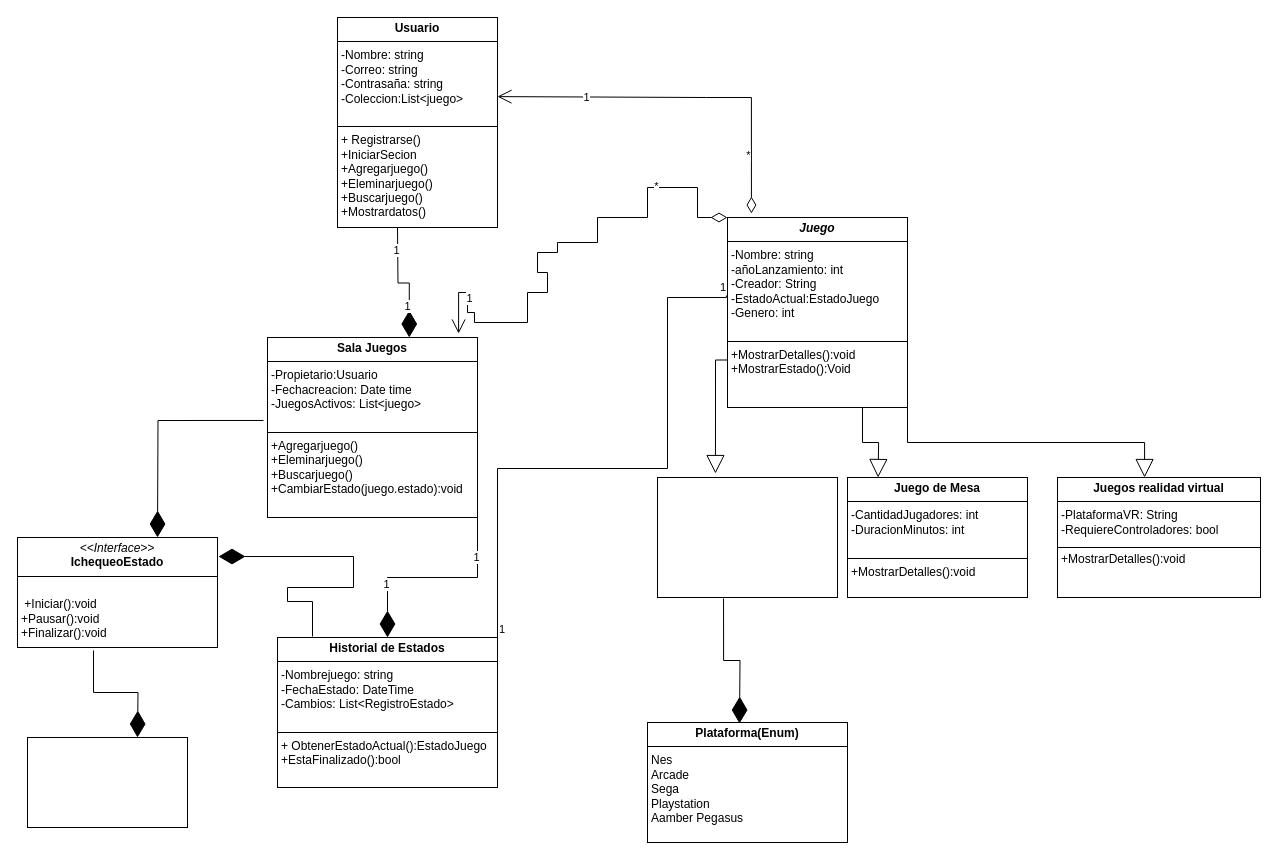
The diagram is 1279 pixels wide and 860 high, and some of its shapes have lost their labels. Here are the shapes that lost their labels. From the top down, the box of each, then its label:
(656, 476, 838, 598): Juego por Consola -Plataforma: Plataforma(enum) +MostrarDetalles():void
(26, 736, 188, 828): EstadoJuego(Enum) Jugando Puasado Finalizado
